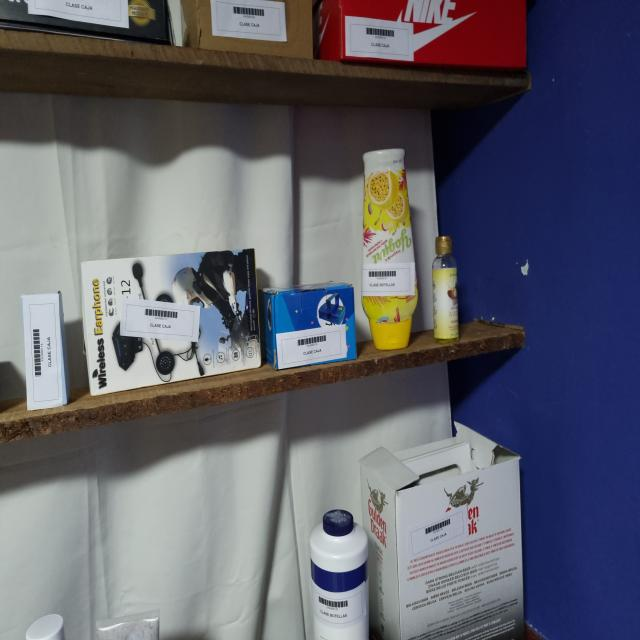botella: (361, 148, 419, 349), (310, 509, 369, 640), (432, 236, 459, 344)
caja: (360, 425, 523, 640), (82, 249, 261, 395), (317, 0, 526, 69), (258, 282, 357, 369), (181, 0, 313, 59), (21, 291, 70, 410)
